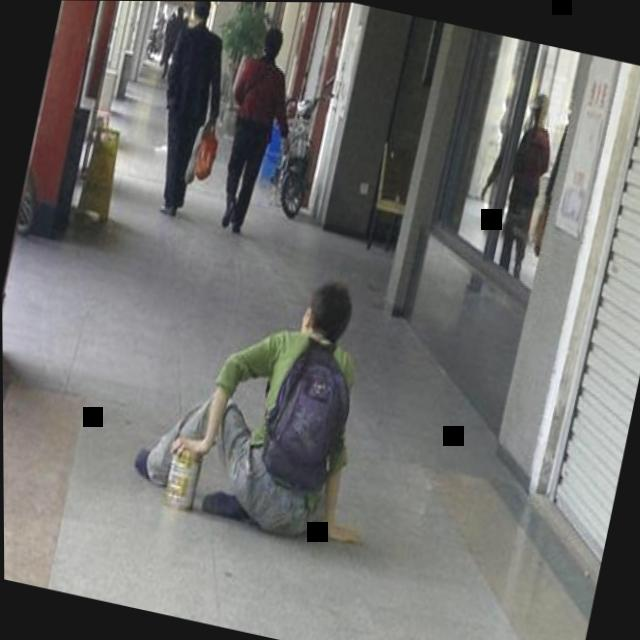Fall-Detected: (117, 228, 410, 558)
